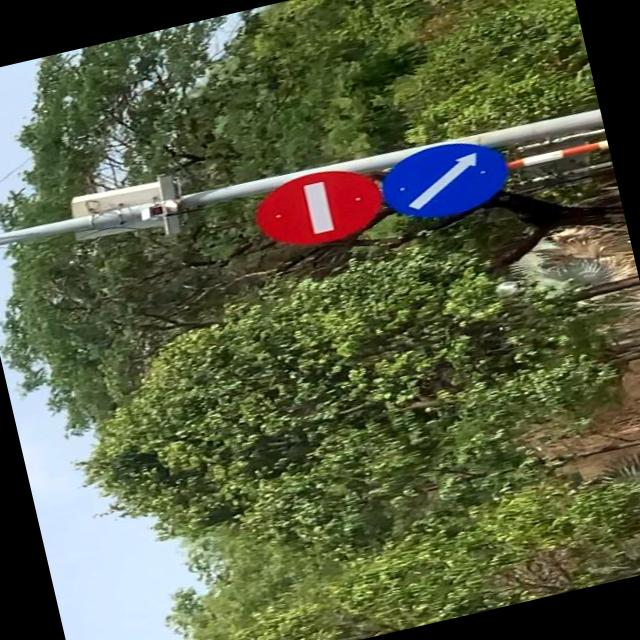P-102: (247, 158, 386, 256)
R-302a: (374, 133, 512, 228)
